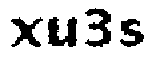3: (81, 8, 113, 48)
s: (118, 15, 147, 48)
u: (46, 15, 82, 52)
x: (8, 15, 43, 49)
